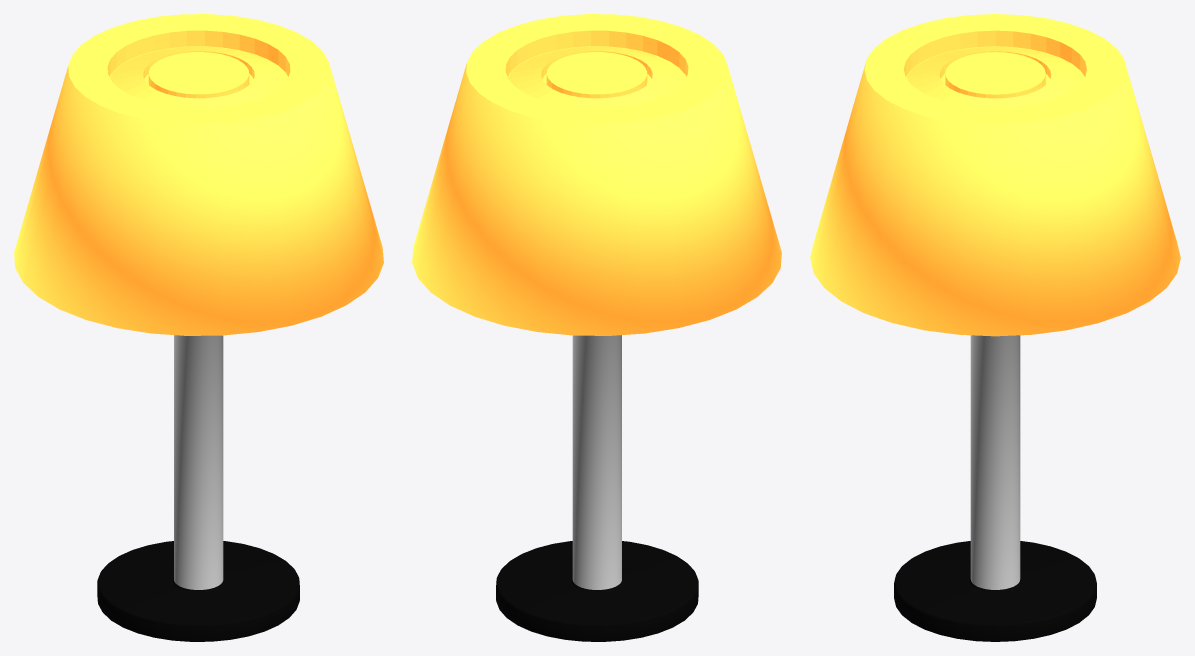
File: Lamp.fbx
3 renders of one model, left to right at view 1: azimuth 30°, elevation 25°; view 2: azimuth 150°, elevation 25°; view 3: azimuth 270°, elevation 25°, orthographic.
Visible parts, largest first — view 1: Lamp Shade, Lamp Base; view 2: Lamp Shade, Lamp Base; view 3: Lamp Shade, Lamp Base.
Part boxes in pixels (x1,y1,x2,y2): Lamp Shade: [14, 14, 383, 335]; Lamp Base: [97, 335, 299, 641]; Lamp Shade: [412, 14, 781, 335]; Lamp Base: [496, 335, 698, 641]; Lamp Shade: [810, 14, 1180, 336]; Lamp Base: [894, 335, 1096, 641].
Size of the model in its own units: 100 by 158 by 100.
